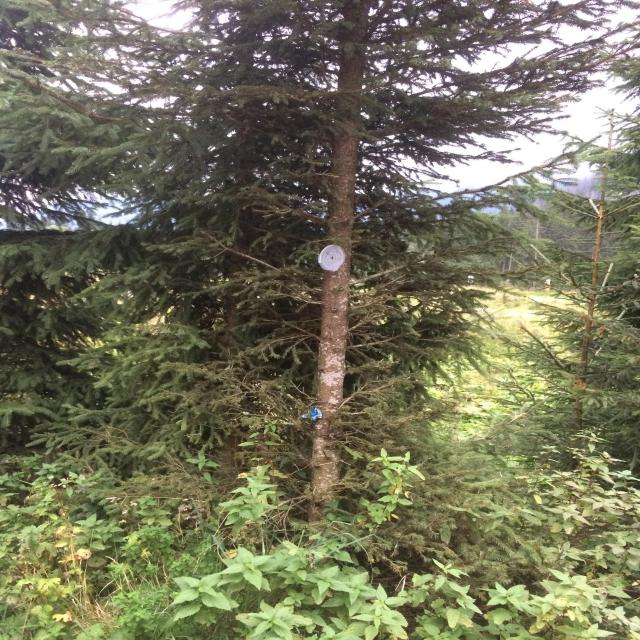Plastic lid: (318, 244, 345, 272)
Unlabeled litter: (301, 406, 323, 421)
